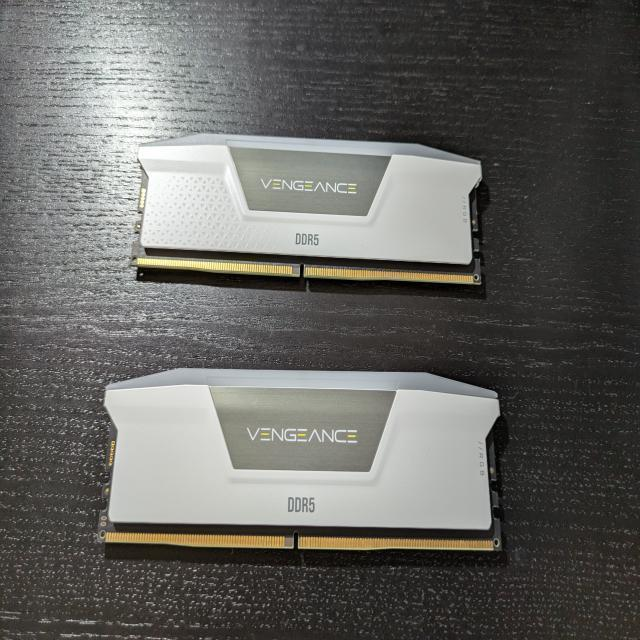RAM: (96, 366, 502, 552), (128, 132, 483, 286)
